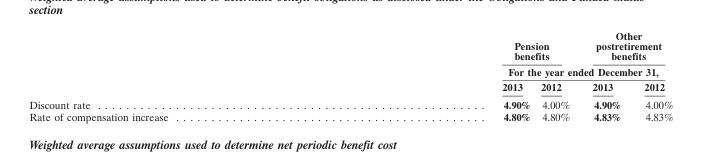table: (28, 28, 672, 122)
table column: (28, 28, 334, 122), (334, 28, 534, 122), (580, 28, 631, 122), (534, 28, 580, 122), (631, 28, 672, 122)
table column header: (28, 28, 672, 95)
table row: (28, 28, 672, 63), (28, 78, 672, 95), (28, 63, 672, 78), (28, 95, 672, 110), (28, 110, 672, 122)
table spanning cell: (334, 28, 580, 63), (334, 63, 672, 78), (580, 28, 672, 63)
